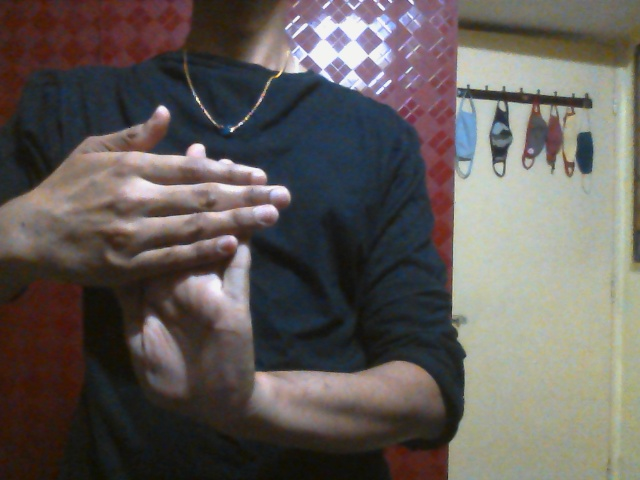H: (43, 104, 293, 424)
